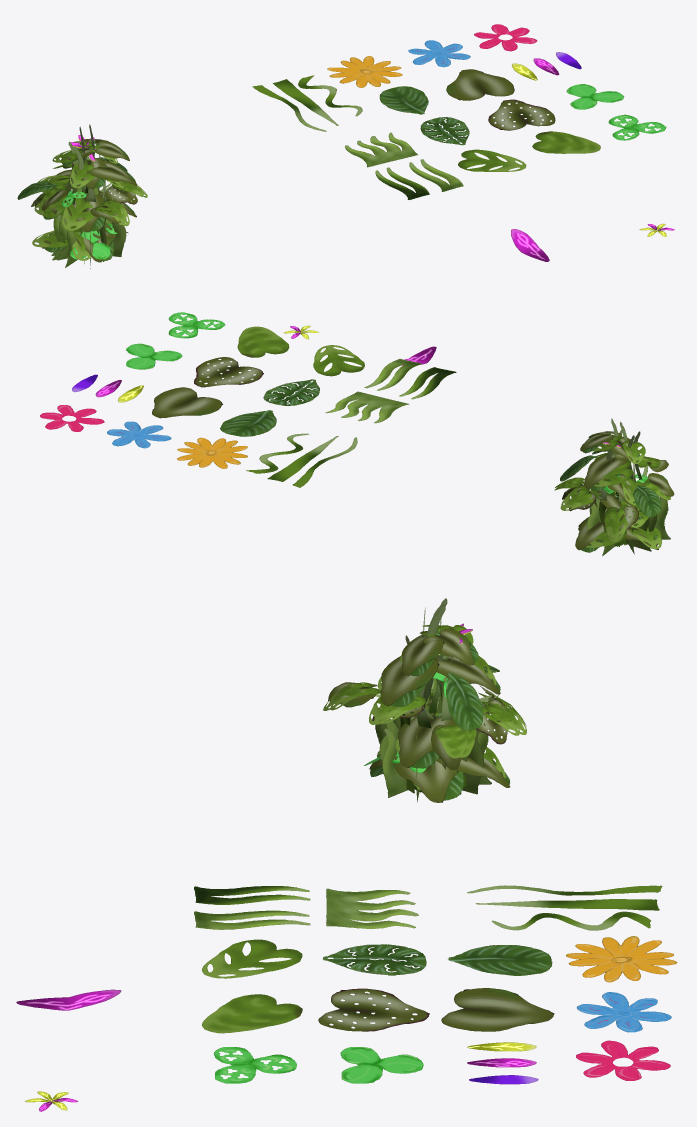
3 renders of one model, top to bottom at view 1: azimuth 30°, elevation 25°; view 2: azimuth 150°, elevation 25°; view 3: azimuth 270°, elevation 25°, orthographic. The views are drawn at different scales.
Visible parts, largest first — view 1: pCube1_Leaves1_0, polySurface142_Leaves1_0, polySurface130_Leaves1_0, pCube67_Leaves1_0, pCube81_Leaves1_0, group2_pCube61_Leaves1_0, polySurface94_Leaves1_0, pCube34_Leaves1_0, polySurface113_Leaves1_0, group1_pCube50_Leaves1_0; view 2: pCube1_Leaves1_0, polySurface130_Leaves1_0, polySurface142_Leaves1_0, pCube81_Leaves1_0, group1_pCube50_Leaves1_0, group2_pCube61_Leaves1_0, pCube48_Leaves1_0, polySurface94_Leaves1_0; view 3: pCube1_Leaves1_0, polySurface130_Leaves1_0, pCube81_Leaves1_0, group2_pCube61_Leaves1_0, polySurface113_Leaves1_0, group1_pCube50_Leaves1_0, polySurface94_Leaves1_0, pCube34_Leaves1_0, polySurface142_Leaves1_0, pCube67_Leaves1_0, pCube48_Leaves1_0.
Part boxes in pixels (left/top/right/bottom): pCube1_Leaves1_0: left=252, top=24, right=666, bottom=199; polySurface142_Leaves1_0: left=32, top=126, right=124, bottom=260; polySurface130_Leaves1_0: left=42, top=124, right=137, bottom=262; pCube67_Leaves1_0: left=57, top=146, right=122, bottom=268; pCube81_Leaves1_0: left=17, top=157, right=147, bottom=226; group2_pCube61_Leaves1_0: left=34, top=182, right=137, bottom=223; polySurface94_Leaves1_0: left=61, top=162, right=126, bottom=267; pCube34_Leaves1_0: left=511, top=229, right=549, bottom=261; polySurface113_Leaves1_0: left=43, top=142, right=135, bottom=261; group1_pCube50_Leaves1_0: left=31, top=181, right=143, bottom=225; pCube1_Leaves1_0: left=40, top=312, right=456, bottom=487; polySurface130_Leaves1_0: left=575, top=418, right=657, bottom=550; polySurface142_Leaves1_0: left=585, top=421, right=670, bottom=549; pCube81_Leaves1_0: left=555, top=453, right=661, bottom=539; group1_pCube50_Leaves1_0: left=554, top=459, right=670, bottom=546; group2_pCube61_Leaves1_0: left=562, top=459, right=674, bottom=535; pCube48_Leaves1_0: left=587, top=434, right=651, bottom=551; polySurface94_Leaves1_0: left=598, top=453, right=670, bottom=554; pCube1_Leaves1_0: left=194, top=885, right=677, bottom=1084; polySurface130_Leaves1_0: left=369, top=604, right=510, bottom=802; pCube81_Leaves1_0: left=323, top=661, right=519, bottom=758; group2_pCube61_Leaves1_0: left=328, top=682, right=510, bottom=769; polySurface113_Leaves1_0: left=370, top=604, right=509, bottom=800; group1_pCube50_Leaves1_0: left=330, top=678, right=526, bottom=757; polySurface94_Leaves1_0: left=382, top=656, right=448, bottom=797; pCube34_Leaves1_0: left=16, top=989, right=121, bottom=1010; polySurface142_Leaves1_0: left=377, top=598, right=505, bottom=790; pCube67_Leaves1_0: left=364, top=607, right=467, bottom=802; pCube48_Leaves1_0: left=392, top=618, right=483, bottom=802.
Bounding box in the file's own units: 48.86 × 10.35 × 32.51.
1 material, 1 textured.
